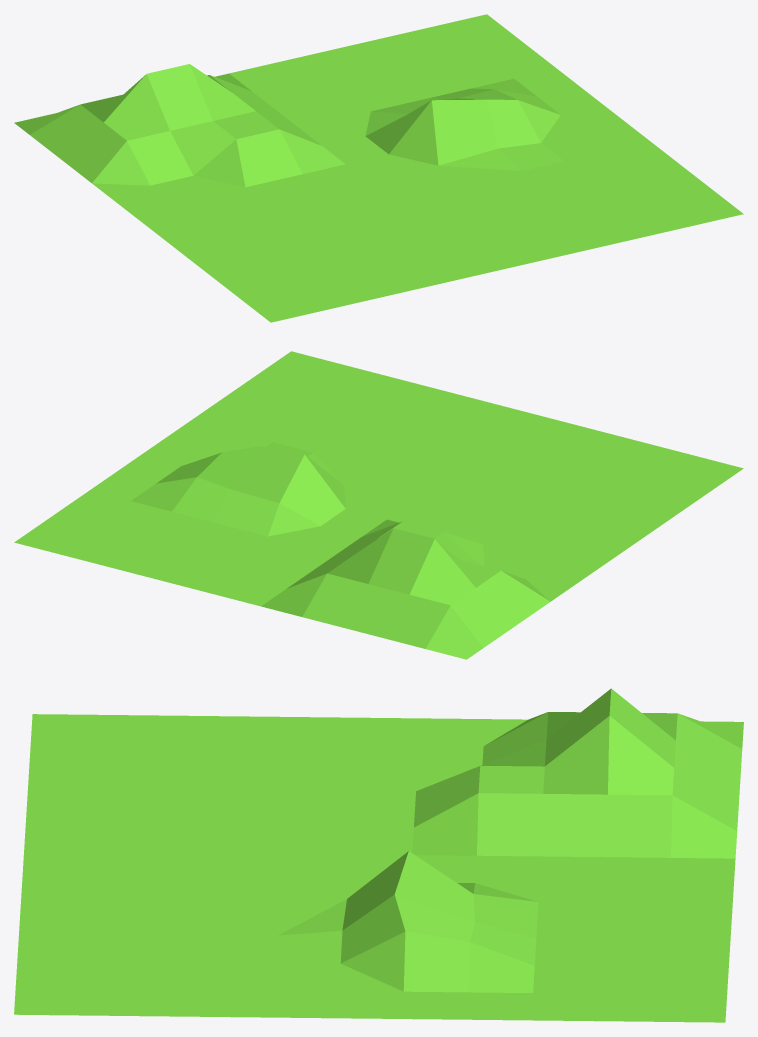
The model's file is land.glb.
The picture shows the model from 3 angles, top to bottom: view 1: azimuth 30°, elevation 25°; view 2: azimuth 150°, elevation 25°; view 3: azimuth 270°, elevation 25°; orthographic projection. The views are drawn at different scales.
Parts seen in each view (by area): view 1: Plane; view 2: Plane; view 3: Plane.
Boxes of the visible parts, x1,y1,x2,y2 form: Plane: (14,14,743,322); Plane: (14,351,743,659); Plane: (14,688,743,1022).
Bounding box in the file's own units: 20.51 × 2.69 × 20.51.
